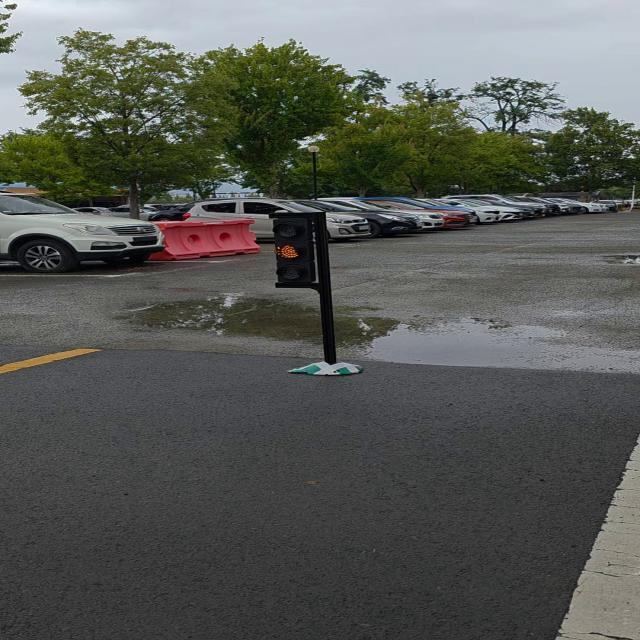yellow: (270, 211, 329, 287)
